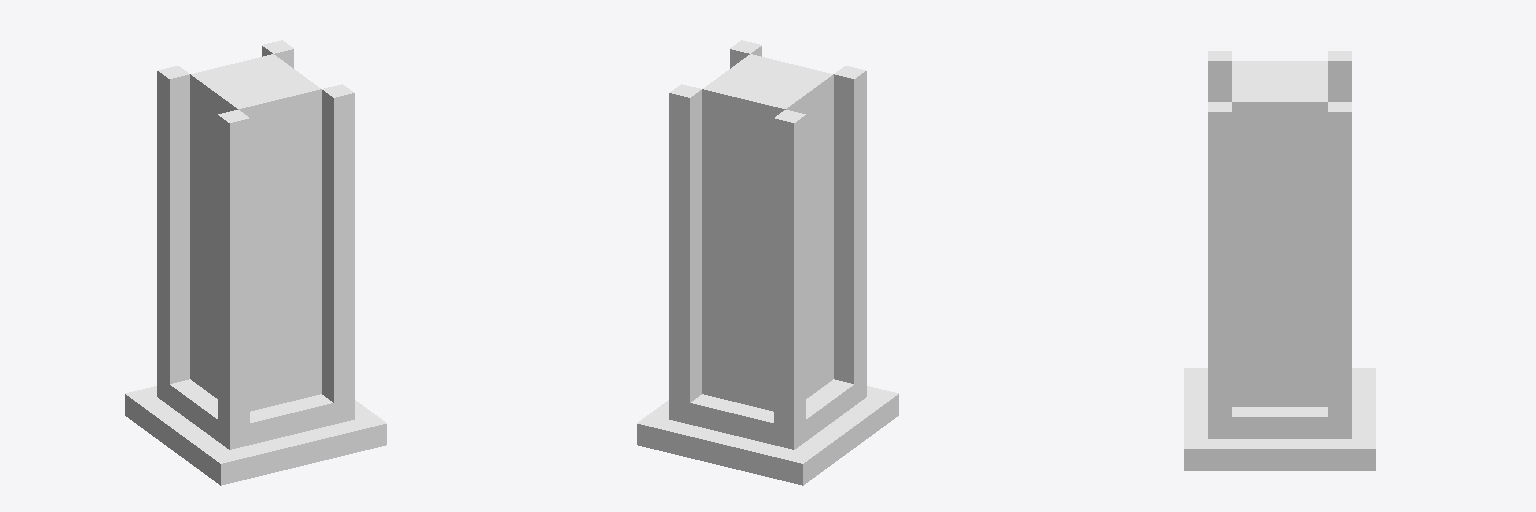
Rendered from BottomPillarTile001.obj.
3 renders of one model, left to right at view 1: azimuth 30°, elevation 25°; view 2: azimuth 150°, elevation 25°; view 3: azimuth 270°, elevation 25°, orthographic.
Parts seen in each view (by area): view 1: object 1; view 2: object 1; view 3: object 1.
Part boxes in pixels (bbox=[...]): object 1: bbox=[125, 40, 386, 485]; object 1: bbox=[637, 40, 898, 485]; object 1: bbox=[1184, 51, 1375, 470].
Bounding box in the file's own units: 0.8 × 1.6 × 0.8.